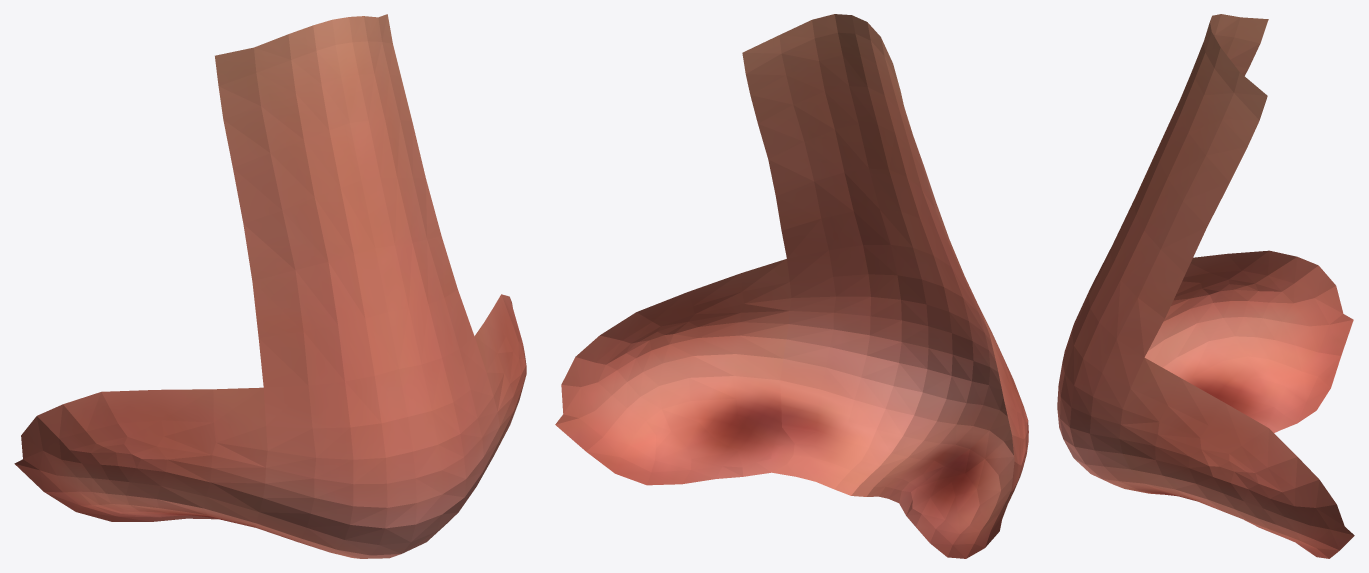
Rendered from euro-nose-nostril-wide.obj.
3 views of the same model, side by side, from view 1: azimuth 30°, elevation 25°; view 2: azimuth 150°, elevation 25°; view 3: azimuth 270°, elevation 25° (orthographic). The views are drawn at different scales.
Visible parts, largest first — view 1: euro-nose-nostril-wid.001; view 2: euro-nose-nostril-wid.001; view 3: euro-nose-nostril-wid.001.
Boxes of the visible parts, bbox=[...] form: euro-nose-nostril-wid.001: bbox=[14, 14, 526, 558]; euro-nose-nostril-wid.001: bbox=[555, 14, 1028, 558]; euro-nose-nostril-wid.001: bbox=[1057, 14, 1354, 558].
Size of the model in its own units: 0.3676 by 0.3754 by 0.2131.
1 material, 1 textured.
